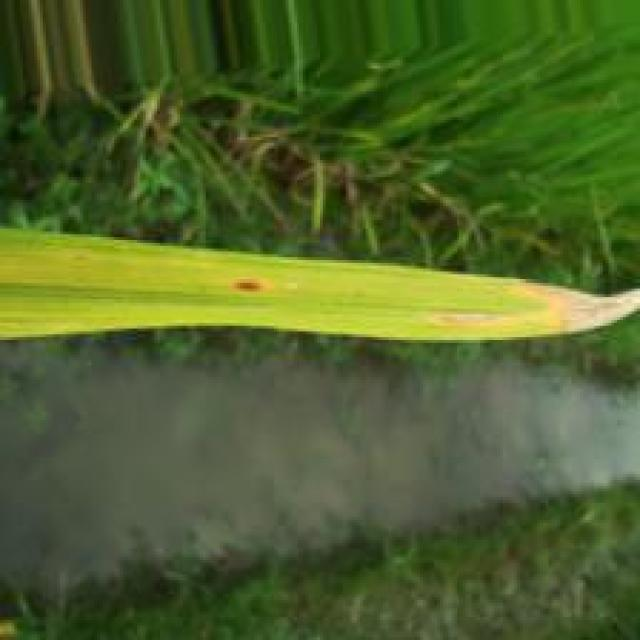Brown_Spot: (225, 279, 275, 296)
